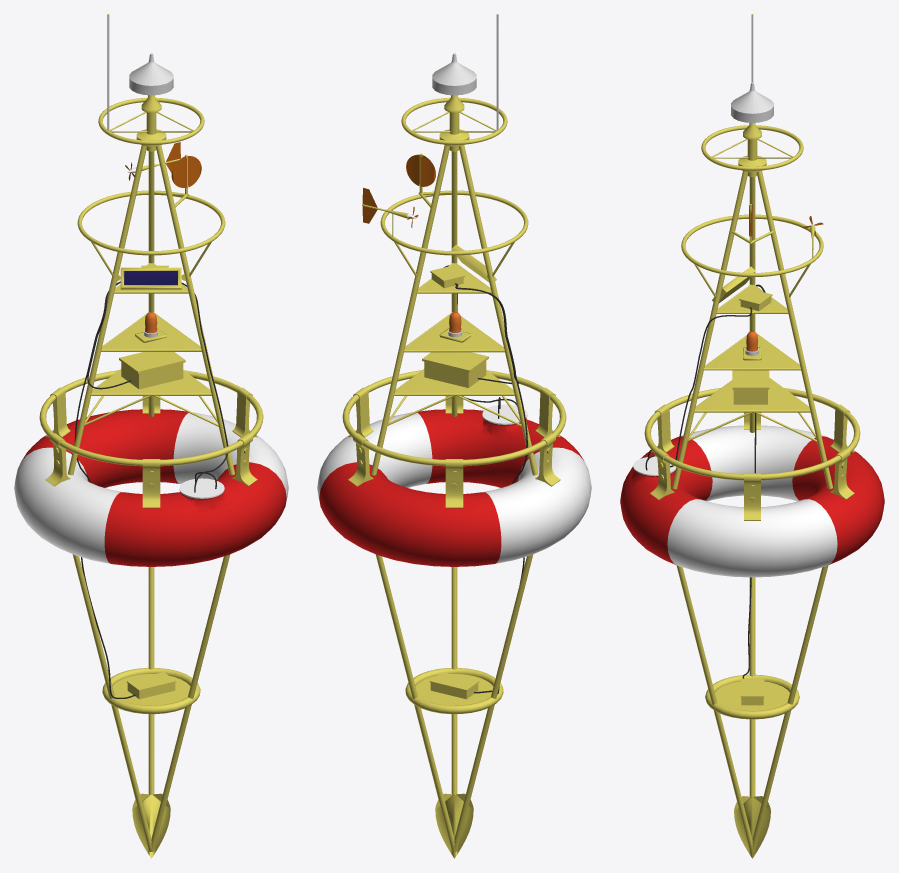
The model's file is HarborBuoy.obj.
3 renders of one model, left to right at view 1: azimuth 30°, elevation 25°; view 2: azimuth 150°, elevation 25°; view 3: azimuth 270°, elevation 25°, orthographic. The views are drawn at different scales.
Visible parts, largest first — view 1: Floater_0; view 2: Floater_0; view 3: Floater_0.
Boxes of the visible parts, <box> form: Floater_0: <box>14,14,288,858</box>; Floater_0: <box>317,14,591,858</box>; Floater_0: <box>620,14,884,858</box>.
Bounding box in the file's own units: 77.32 × 266 × 77.32.
